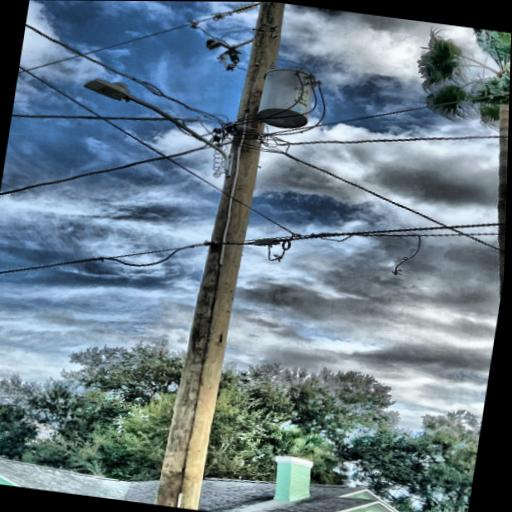pole: (129, 1, 295, 512)
street light: (65, 73, 250, 181)
transformer: (249, 60, 323, 133)
